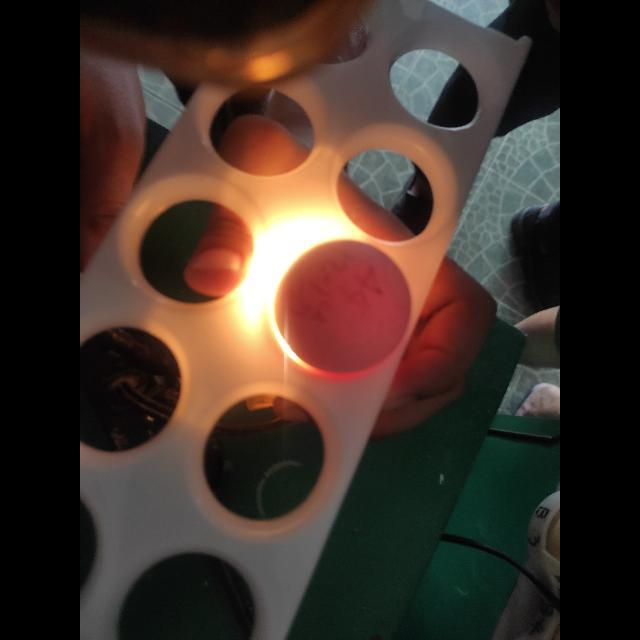Fertile: (273, 238, 417, 374)
